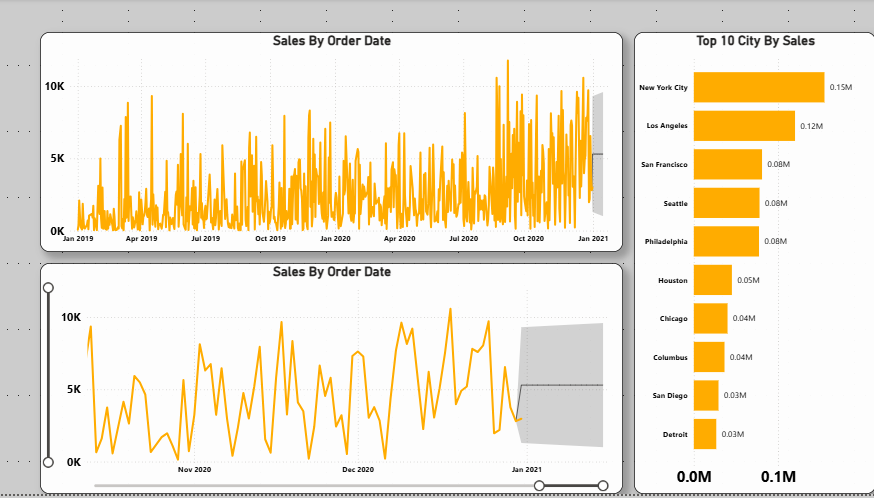

Layout of this report page (visuals, bound fields, positions):
{"tool":"powerbi","page":{"name":"Page 2","canvas":[1280,720],"ordinal":1},"visuals":[{"type":"lineChart","title":"Sales By Order Date","fields":{"Y":["Sum(Sheet1.Sales)"],"Category":["Sheet1.Order Date"]},"box":[64,48,848,320],"z":0},{"type":"lineChart","title":"Sales By Order Date","fields":{"Y":["Sum(Sheet1.Sales)"],"Category":["Sheet1.Order Date"]},"box":[64,384,848,336],"z":1000},{"type":"barChart","title":"Top 10 City By Sales","fields":{"Category":["Sheet1.City"],"Y":["Sum(Sheet1.Sales)"]},"box":[928,48,352,672],"z":2000}]}

Visuals, with their boxes in screenshot pixels (x1, y1, x2, y2), scaled from the page's 1280x720 canvas onto the 874x498 screenshot:
"Sales By Order Date" lineChart: 44,33,623,255
"Sales By Order Date" lineChart: 44,266,623,497
"Top 10 City By Sales" barChart: 634,33,873,497
